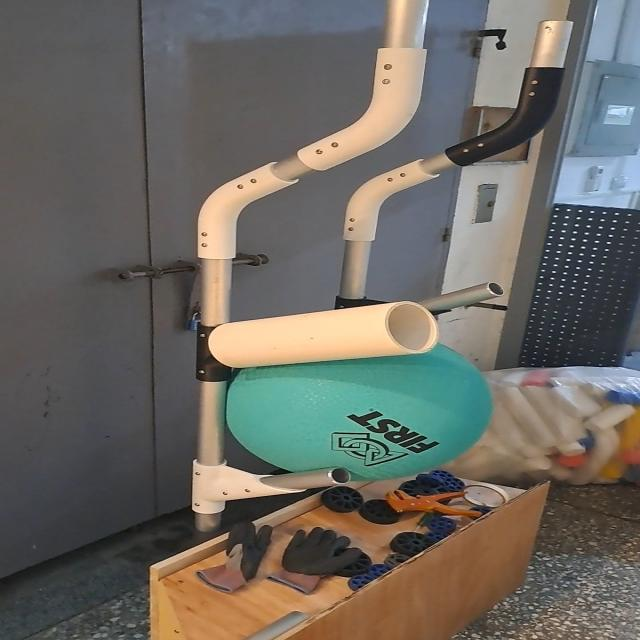ALGAE: (227, 338, 499, 484)
CORAL: (208, 298, 446, 366)
